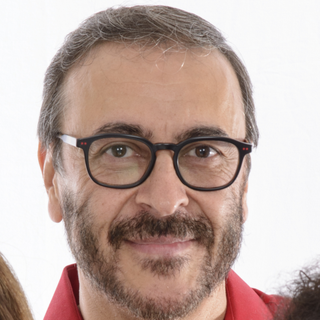eye: (92, 136, 145, 168), (175, 140, 229, 168)
